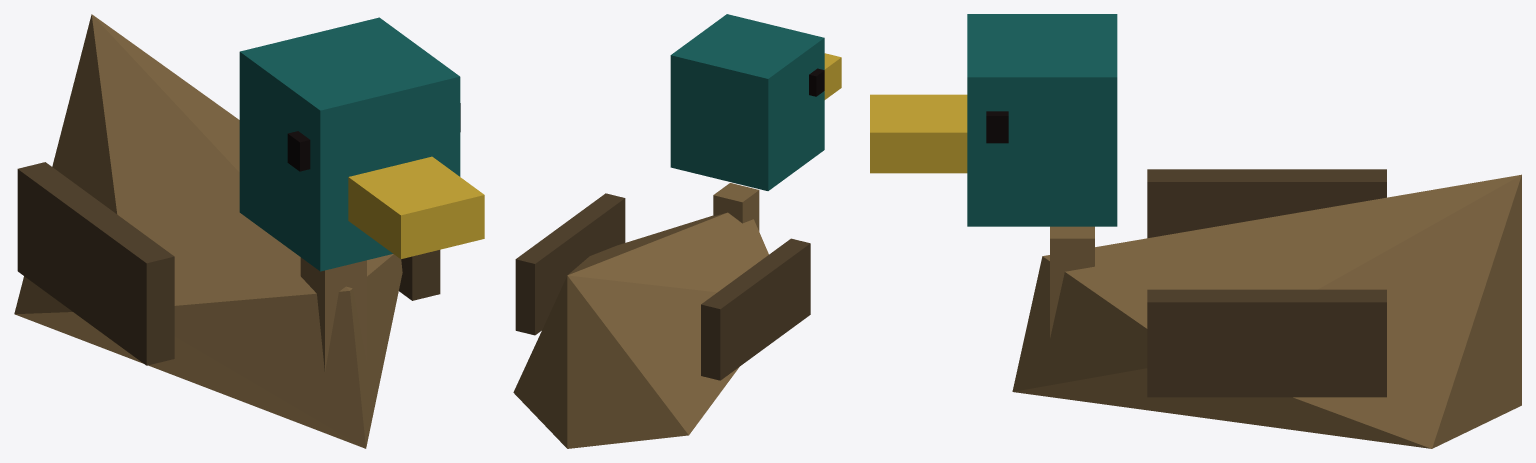
Rendered from mod_duck.glb.
The picture shows the model from 3 angles, left to right: view 1: azimuth 30°, elevation 25°; view 2: azimuth 150°, elevation 25°; view 3: azimuth 270°, elevation 25°; orthographic projection. The views are drawn at different scales.
Parts seen in each view (by area): view 1: mod_duck; view 2: mod_duck; view 3: mod_duck.
Boxes of the visible parts, x1,y1,x2,y2 form: mod_duck: (14,14,484,448); mod_duck: (513,14,841,448); mod_duck: (870,14,1521,448).
Bounding box in the file's own units: 0.21 × 0.265 × 0.435.
